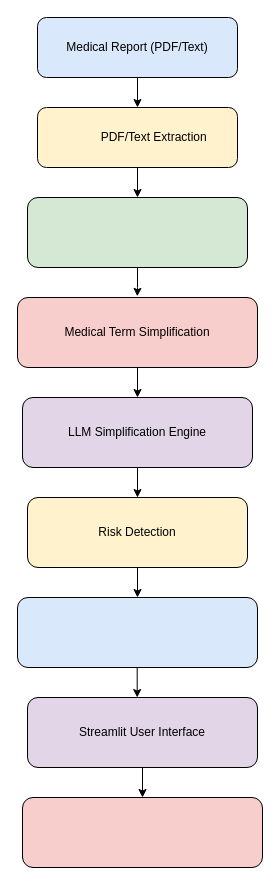
The diagram is 280 pixels wide and 885 high, and some of its shapes have lost their labels. Here are the shapes that lost their labels. From the top down, the box of each, then its label:
(26, 196, 248, 268): Medical Entity Extraction (spaCy)
(16, 596, 258, 668): Patient-Friendly Output
(22, 796, 262, 868): Download Simplified PDF
